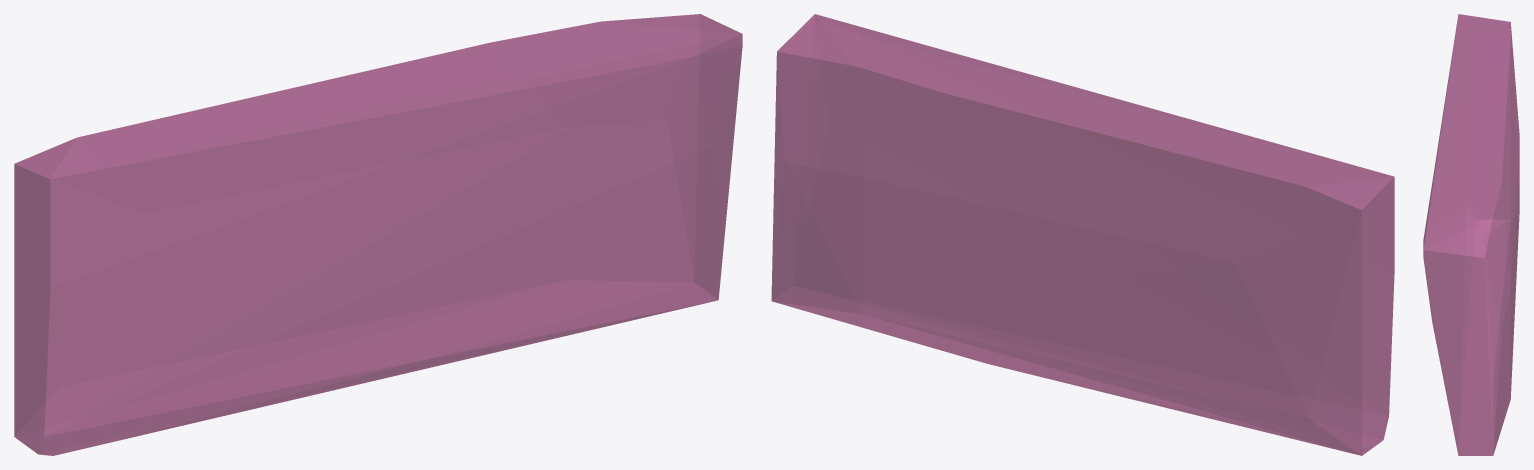
3 views of the same model, side by side, from view 1: azimuth 30°, elevation 25°; view 2: azimuth 150°, elevation 25°; view 3: azimuth 270°, elevation 25° (orthographic). The views are drawn at different scales.
Parts seen in each view (by area): view 1: Shape_IndexedFaceSet.007_Shape_IndexedFaceSet.10717; view 2: Shape_IndexedFaceSet.007_Shape_IndexedFaceSet.10717; view 3: Shape_IndexedFaceSet.007_Shape_IndexedFaceSet.10717.
Boxes of the visible parts, x1=… form: Shape_IndexedFaceSet.007_Shape_IndexedFaceSet.10717: x1=14, y1=14, x2=742, y2=455; Shape_IndexedFaceSet.007_Shape_IndexedFaceSet.10717: x1=771, y1=14, x2=1394, y2=455; Shape_IndexedFaceSet.007_Shape_IndexedFaceSet.10717: x1=1423, y1=14, x2=1519, y2=455.
Bounding box in the file's own units: 0.2114 × 0.0892 × 0.0363.
